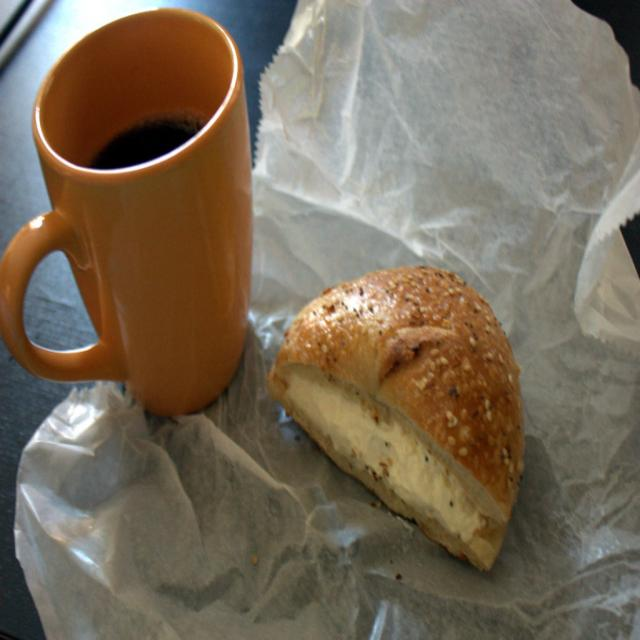Coffee: (77, 108, 205, 174)
Tea: (90, 119, 211, 168)
